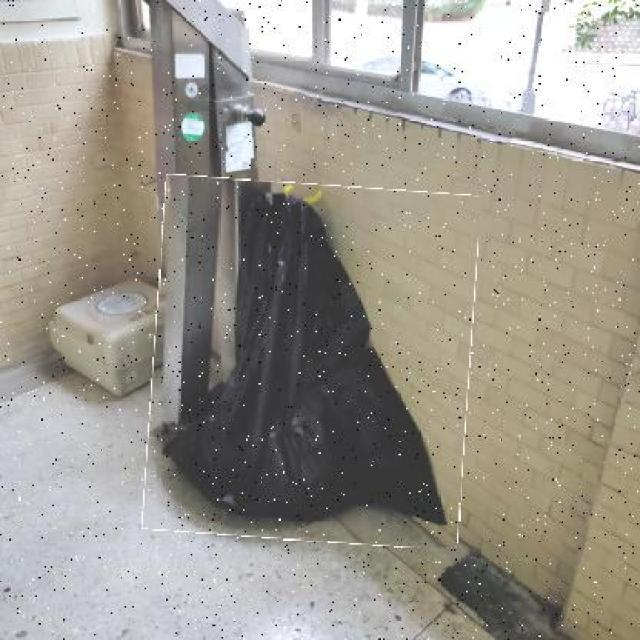waste: (148, 180, 476, 546)
